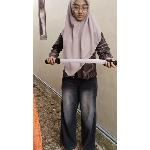Pedang: (42, 52, 118, 74)
